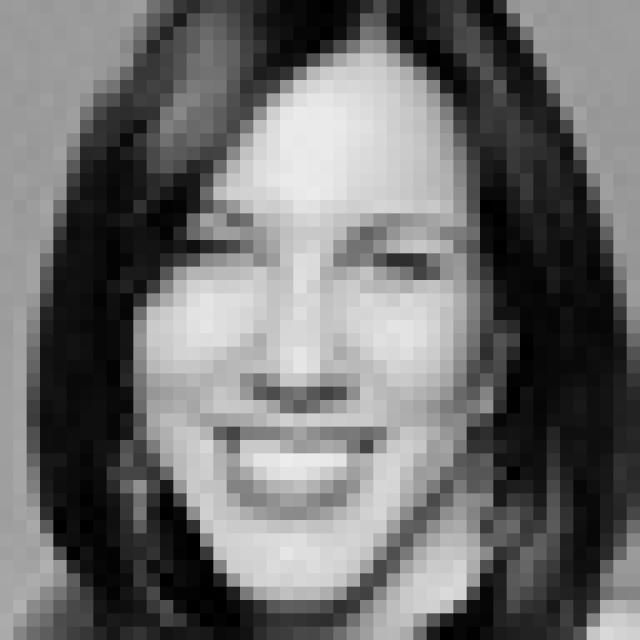happy: (171, 192, 484, 531)
